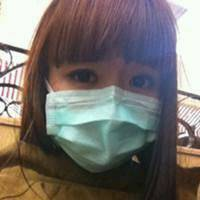yes_mask: (24, 1, 168, 176)
